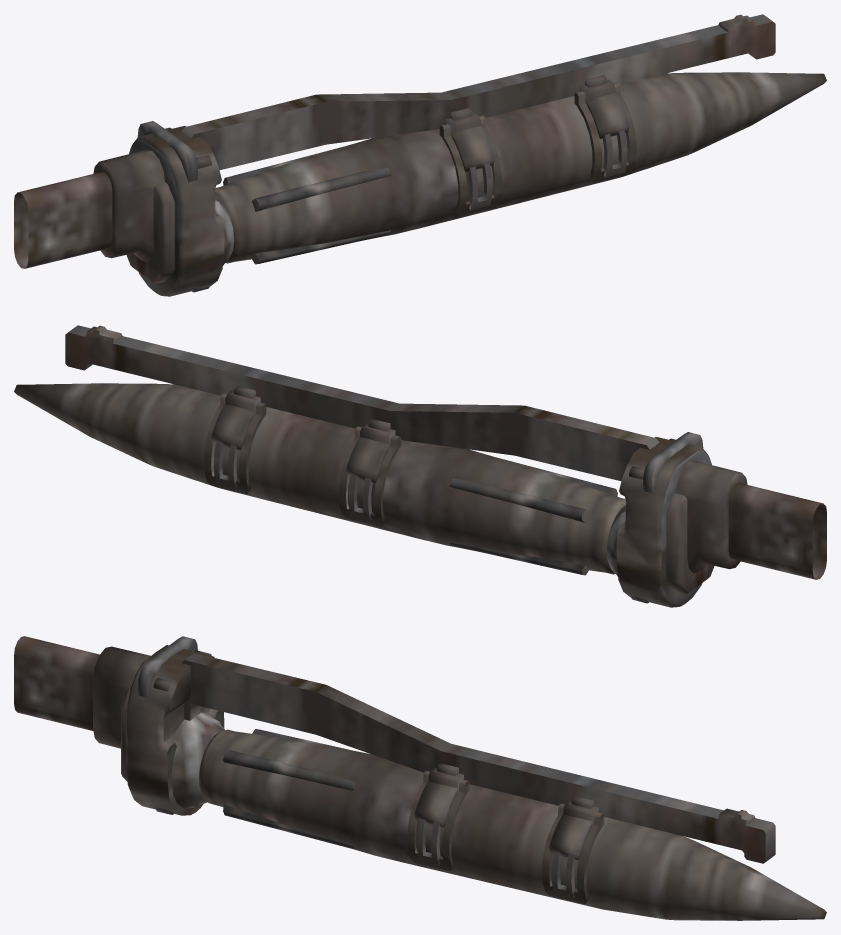
File: HeavyWeapons_Vladof_Underbarrel_Big-Boy-Rocket.obj
The picture shows the model from 3 angles, top to bottom: view 1: azimuth 30°, elevation 25°; view 2: azimuth 150°, elevation 25°; view 3: azimuth 330°, elevation 25°; orthographic projection.
Parts seen in each view (by area): view 1: Underbarrel_BigBoyRocket_armature_SK_HW_VLA.194, Underbarrel_BigBoyRocket_rocket_body_SK_HW_VLA.193, Underbarrel_BigBoyRocket_armature_clamp_4_clasp_SK_HW_VLA.202, Underbarrel_BigBoyRocket_armature_clamp_3_clasp_SK_HW_VLA.204, Underbarrel_BigBoyRocket_rocket_fin_2_SK_HW_VLA.203, Underbarrel_BigBoyRocket_rocket_fin_3_SK_HW_VLA.210, Underbarrel_BigBoyRocket_armature_clamp_3_clasp_inner_SK_HW_VLA., Underbarrel_BigBoyRocket_armature_clamp_4_clasp_inner_SK_HW_VLA., Underbarrel_BigBoyRocket_armature_clamp_4_base_SK_HW_VLA.197, Underbarrel_BigBoyRocket_armature_clamp_3_base_SK_HW_VLA.198; view 2: Underbarrel_BigBoyRocket_armature_SK_HW_VLA.194, Underbarrel_BigBoyRocket_rocket_body_SK_HW_VLA.193, Underbarrel_BigBoyRocket_armature_clamp_1_clasp_SK_HW_VLA.199, Underbarrel_BigBoyRocket_armature_clamp_2_clasp_SK_HW_VLA.201, Underbarrel_BigBoyRocket_rocket_fin_1_SK_HW_VLA.209, Underbarrel_BigBoyRocket_rocket_fin_4_SK_HW_VLA.200, Underbarrel_BigBoyRocket_armature_clamp_2_clasp_inner_SK_HW_VLA., Underbarrel_BigBoyRocket_armature_clamp_1_clasp_inner_SK_HW_VLA., Underbarrel_BigBoyRocket_armature_clamp_1_base_SK_HW_VLA.195, Underbarrel_BigBoyRocket_armature_clamp_2_base_SK_HW_VLA.196; view 3: Underbarrel_BigBoyRocket_armature_SK_HW_VLA.194, Underbarrel_BigBoyRocket_rocket_body_SK_HW_VLA.193, Underbarrel_BigBoyRocket_armature_clamp_4_clasp_SK_HW_VLA.202, Underbarrel_BigBoyRocket_armature_clamp_3_clasp_SK_HW_VLA.204, Underbarrel_BigBoyRocket_rocket_fin_2_SK_HW_VLA.203, Underbarrel_BigBoyRocket_rocket_fin_3_SK_HW_VLA.210, Underbarrel_BigBoyRocket_armature_clamp_4_clasp_inner_SK_HW_VLA., Underbarrel_BigBoyRocket_armature_clamp_3_clasp_inner_SK_HW_VLA., Underbarrel_BigBoyRocket_armature_clamp_4_base_SK_HW_VLA.197, Underbarrel_BigBoyRocket_armature_clamp_3_base_SK_HW_VLA.198.
Boxes of the visible parts, box(x1,y1,x2,y2) form: Underbarrel_BigBoyRocket_armature_SK_HW_VLA.194: box(14, 14, 775, 296); Underbarrel_BigBoyRocket_rocket_body_SK_HW_VLA.193: box(214, 72, 826, 263); Underbarrel_BigBoyRocket_armature_clamp_4_clasp_SK_HW_VLA.202: box(574, 82, 636, 183); Underbarrel_BigBoyRocket_armature_clamp_3_clasp_SK_HW_VLA.204: box(439, 115, 502, 215); Underbarrel_BigBoyRocket_rocket_fin_2_SK_HW_VLA.203: box(251, 167, 391, 211); Underbarrel_BigBoyRocket_rocket_fin_3_SK_HW_VLA.210: box(251, 230, 391, 264); Underbarrel_BigBoyRocket_armature_clamp_3_clasp_inner_SK_HW_VLA.: box(468, 163, 492, 210); Underbarrel_BigBoyRocket_armature_clamp_4_clasp_inner_SK_HW_VLA.: box(603, 130, 627, 177); Underbarrel_BigBoyRocket_armature_clamp_4_base_SK_HW_VLA.197: box(580, 75, 615, 104); Underbarrel_BigBoyRocket_armature_clamp_3_base_SK_HW_VLA.198: box(445, 108, 480, 137); Underbarrel_BigBoyRocket_armature_SK_HW_VLA.194: box(65, 325, 826, 607); Underbarrel_BigBoyRocket_rocket_body_SK_HW_VLA.193: box(14, 383, 626, 574); Underbarrel_BigBoyRocket_armature_clamp_1_clasp_SK_HW_VLA.199: box(204, 393, 266, 494); Underbarrel_BigBoyRocket_armature_clamp_2_clasp_SK_HW_VLA.201: box(338, 426, 401, 526); Underbarrel_BigBoyRocket_rocket_fin_1_SK_HW_VLA.209: box(449, 478, 589, 522); Underbarrel_BigBoyRocket_rocket_fin_4_SK_HW_VLA.200: box(449, 541, 589, 575); Underbarrel_BigBoyRocket_armature_clamp_2_clasp_inner_SK_HW_VLA.: box(348, 474, 372, 521); Underbarrel_BigBoyRocket_armature_clamp_1_clasp_inner_SK_HW_VLA.: box(213, 441, 237, 488); Underbarrel_BigBoyRocket_armature_clamp_1_base_SK_HW_VLA.195: box(225, 386, 260, 415); Underbarrel_BigBoyRocket_armature_clamp_2_base_SK_HW_VLA.196: box(360, 419, 395, 448); Underbarrel_BigBoyRocket_armature_SK_HW_VLA.194: box(14, 636, 775, 863); Underbarrel_BigBoyRocket_rocket_body_SK_HW_VLA.193: box(199, 729, 826, 920); Underbarrel_BigBoyRocket_armature_clamp_4_clasp_SK_HW_VLA.202: box(542, 803, 604, 904); Underbarrel_BigBoyRocket_armature_clamp_3_clasp_SK_HW_VLA.204: box(407, 770, 469, 871); Underbarrel_BigBoyRocket_rocket_fin_2_SK_HW_VLA.203: box(223, 749, 355, 790); Underbarrel_BigBoyRocket_rocket_fin_3_SK_HW_VLA.210: box(223, 804, 355, 849); Underbarrel_BigBoyRocket_armature_clamp_4_clasp_inner_SK_HW_VLA.: box(551, 851, 575, 898); Underbarrel_BigBoyRocket_armature_clamp_3_clasp_inner_SK_HW_VLA.: box(417, 818, 441, 865); Underbarrel_BigBoyRocket_armature_clamp_4_base_SK_HW_VLA.197: box(563, 796, 598, 825); Underbarrel_BigBoyRocket_armature_clamp_3_base_SK_HW_VLA.198: box(428, 763, 463, 792).
Size of the model in its own units: 69.54 by 12.82 by 8.52.
